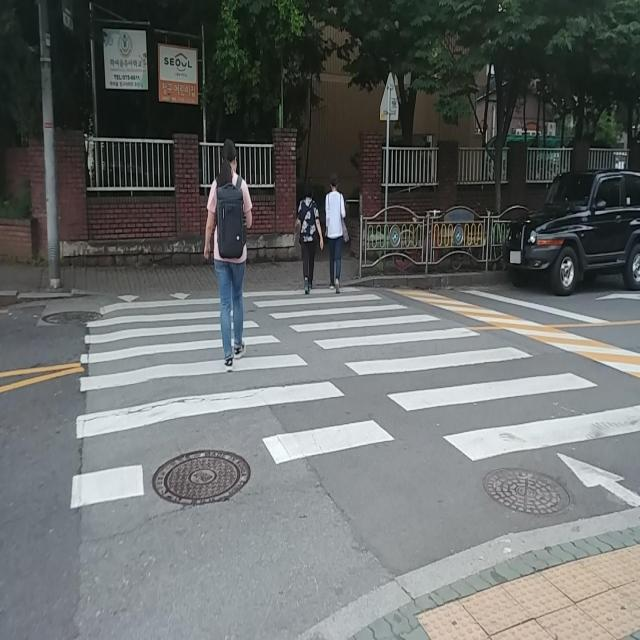횡단보도: (70, 292, 640, 509)
